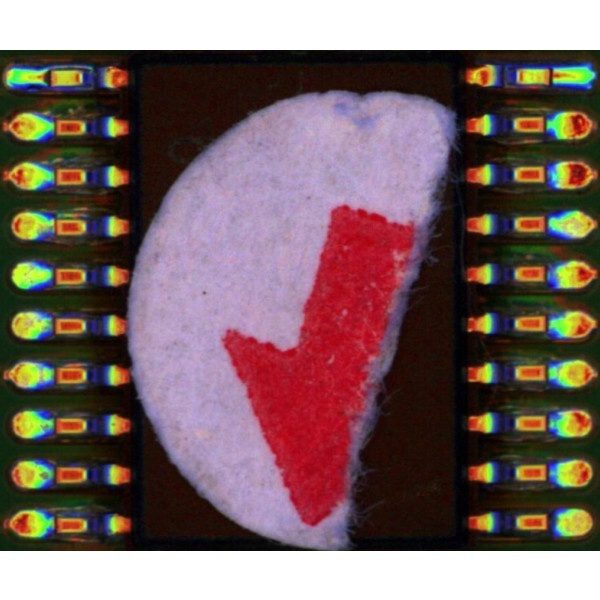Bad_podu: (536, 71, 568, 82), (31, 71, 58, 84)
Bad_qiaojiao: (50, 63, 93, 71)
